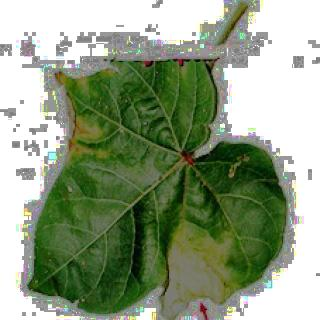wilt: (162, 218, 254, 320), (50, 64, 114, 166)
